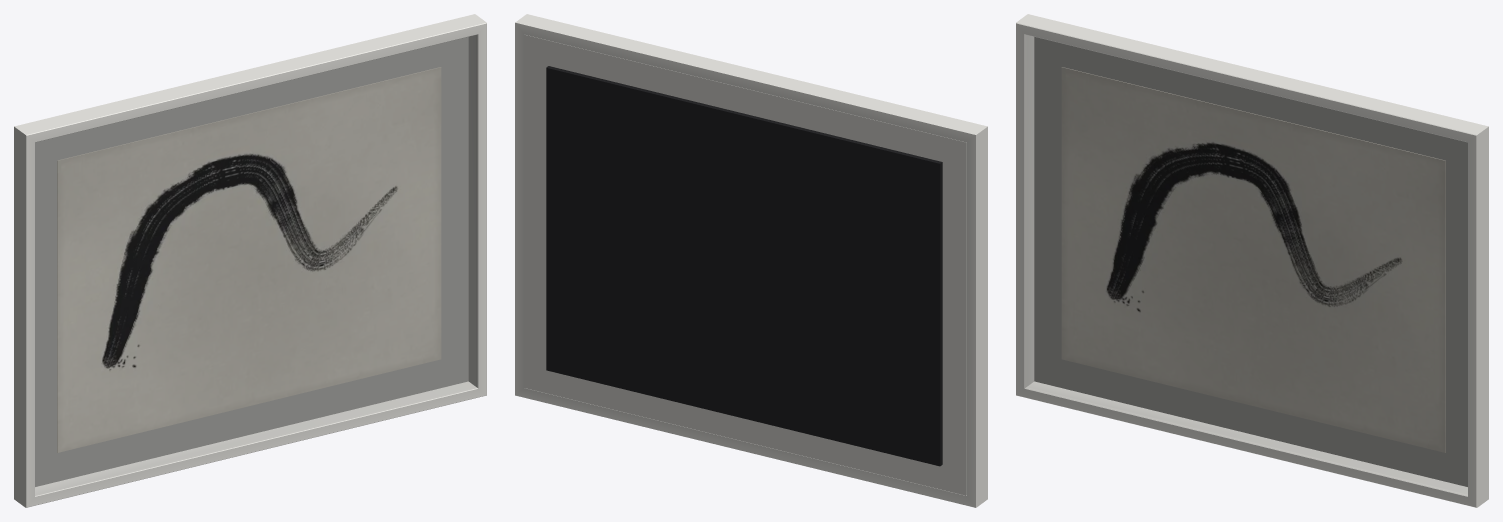
Rendered from art_calligraphy.gltf.
The picture shows the model from 3 angles, left to right: view 1: azimuth 30°, elevation 25°; view 2: azimuth 150°, elevation 25°; view 3: azimuth 330°, elevation 25°; orthographic projection.
Parts seen in each view (by area): view 1: Art_Calligraphy_Art, Art_Calligraphy_Backing, Art_Calligraphy_Frame; view 2: Art_Calligraphy_Spacer, Art_Calligraphy_Backing, Art_Calligraphy_Frame; view 3: Art_Calligraphy_Art, Art_Calligraphy_Backing, Art_Calligraphy_Frame.
Boxes of the visible parts, x1,y1,x2,y2 form: Art_Calligraphy_Art: [57, 67, 441, 452]; Art_Calligraphy_Backing: [35, 37, 468, 486]; Art_Calligraphy_Frame: [14, 14, 486, 507]; Art_Calligraphy_Spacer: [546, 66, 942, 466]; Art_Calligraphy_Backing: [524, 34, 966, 495]; Art_Calligraphy_Frame: [515, 14, 987, 507]; Art_Calligraphy_Art: [1061, 67, 1445, 452]; Art_Calligraphy_Backing: [1034, 37, 1467, 486]; Art_Calligraphy_Frame: [1016, 14, 1488, 507].
Size of the model in its own units: 1.1 by 0.85 by 0.06.
4 materials, 1 textured.
